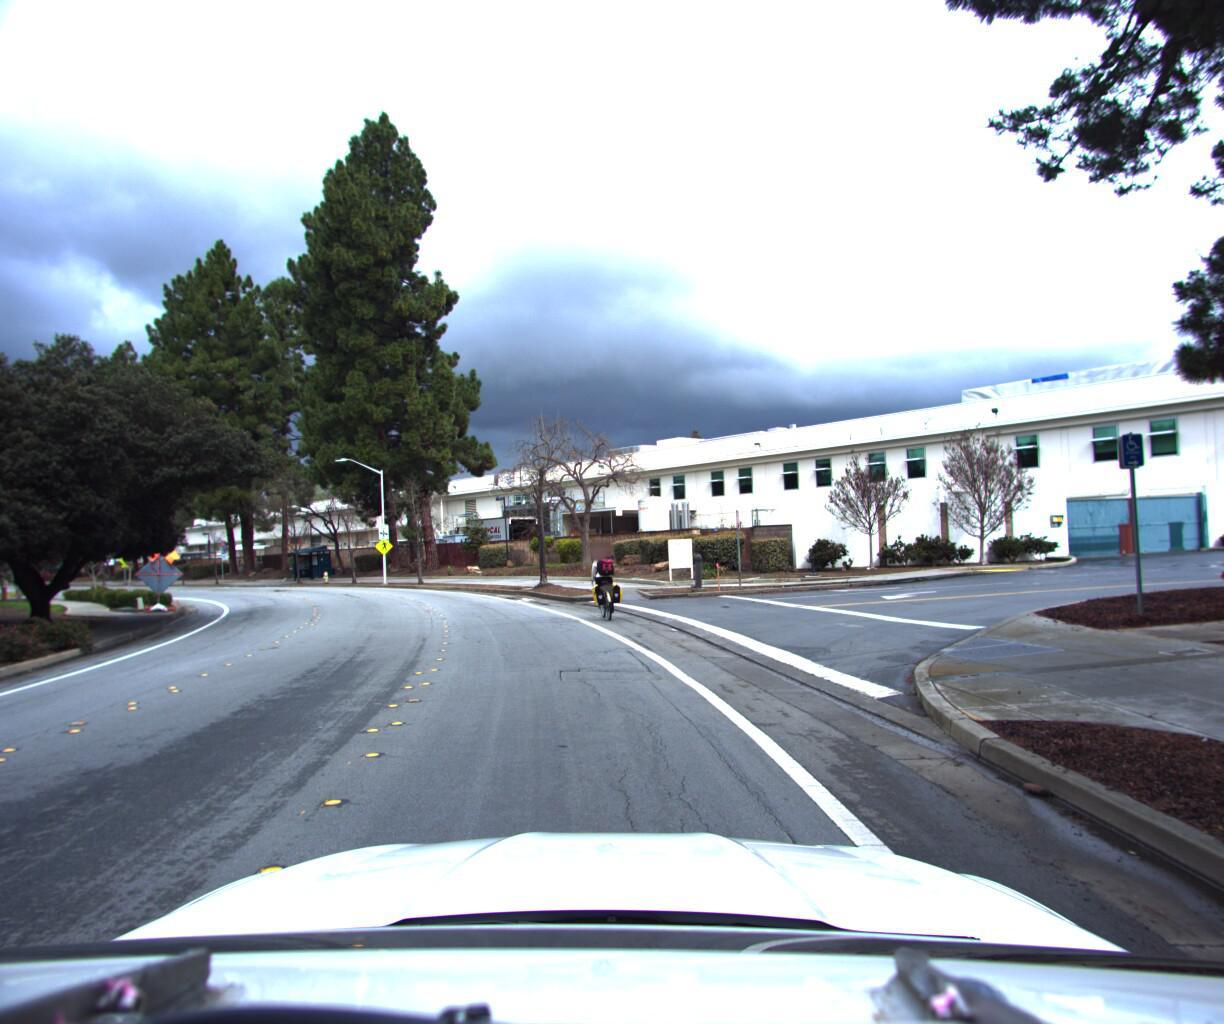bicycle: (576, 543, 630, 621)
truck: (456, 510, 545, 559)
